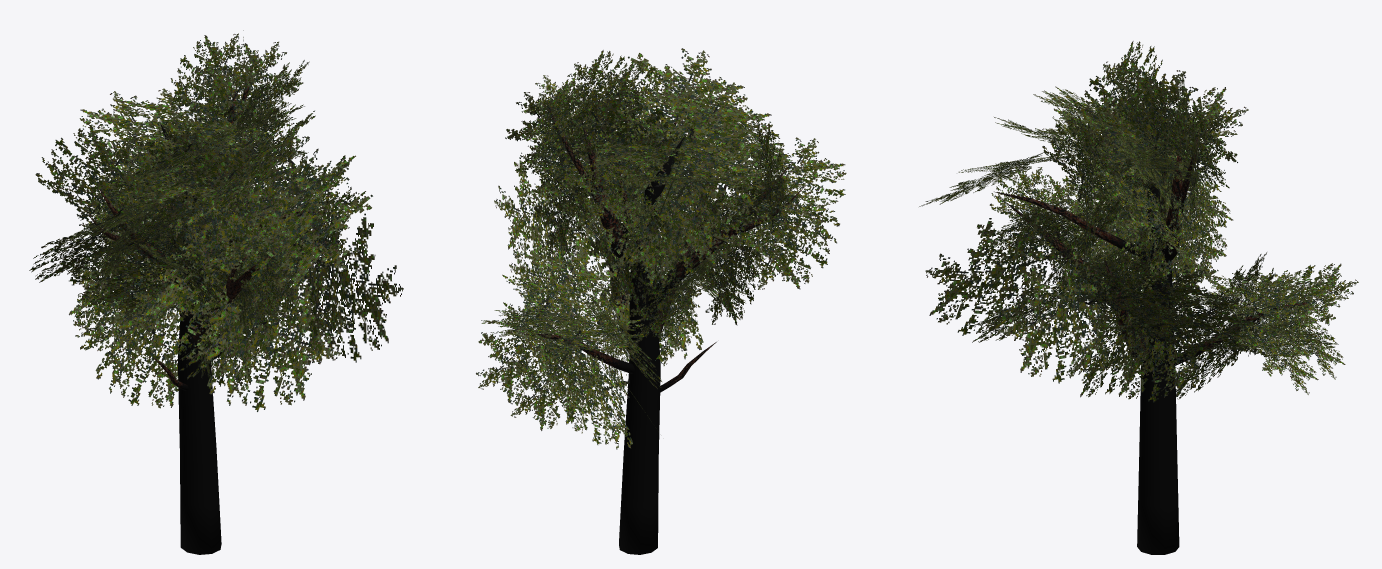
Rendered from tree1.glb.
The picture shows the model from 3 angles, left to right: view 1: azimuth 30°, elevation 25°; view 2: azimuth 150°, elevation 25°; view 3: azimuth 270°, elevation 25°; orthographic projection. The views are drawn at different scales.
Parts seen in each view (by area): view 1: Leaves, Trunk; view 2: Leaves, Trunk; view 3: Leaves, Trunk.
Boxes of the visible parts, bbox=[...] form: Leaves: bbox=[29, 30, 403, 411]; Trunk: bbox=[88, 51, 325, 554]; Leaves: bbox=[476, 48, 846, 449]; Trunk: bbox=[522, 104, 806, 554]; Leaves: bbox=[919, 41, 1358, 402]; Trunk: bbox=[994, 94, 1318, 554].
Bounding box in the file's own units: 7.85 × 11.14 × 9.23.
Materials: 2 (2 with a texture image).
